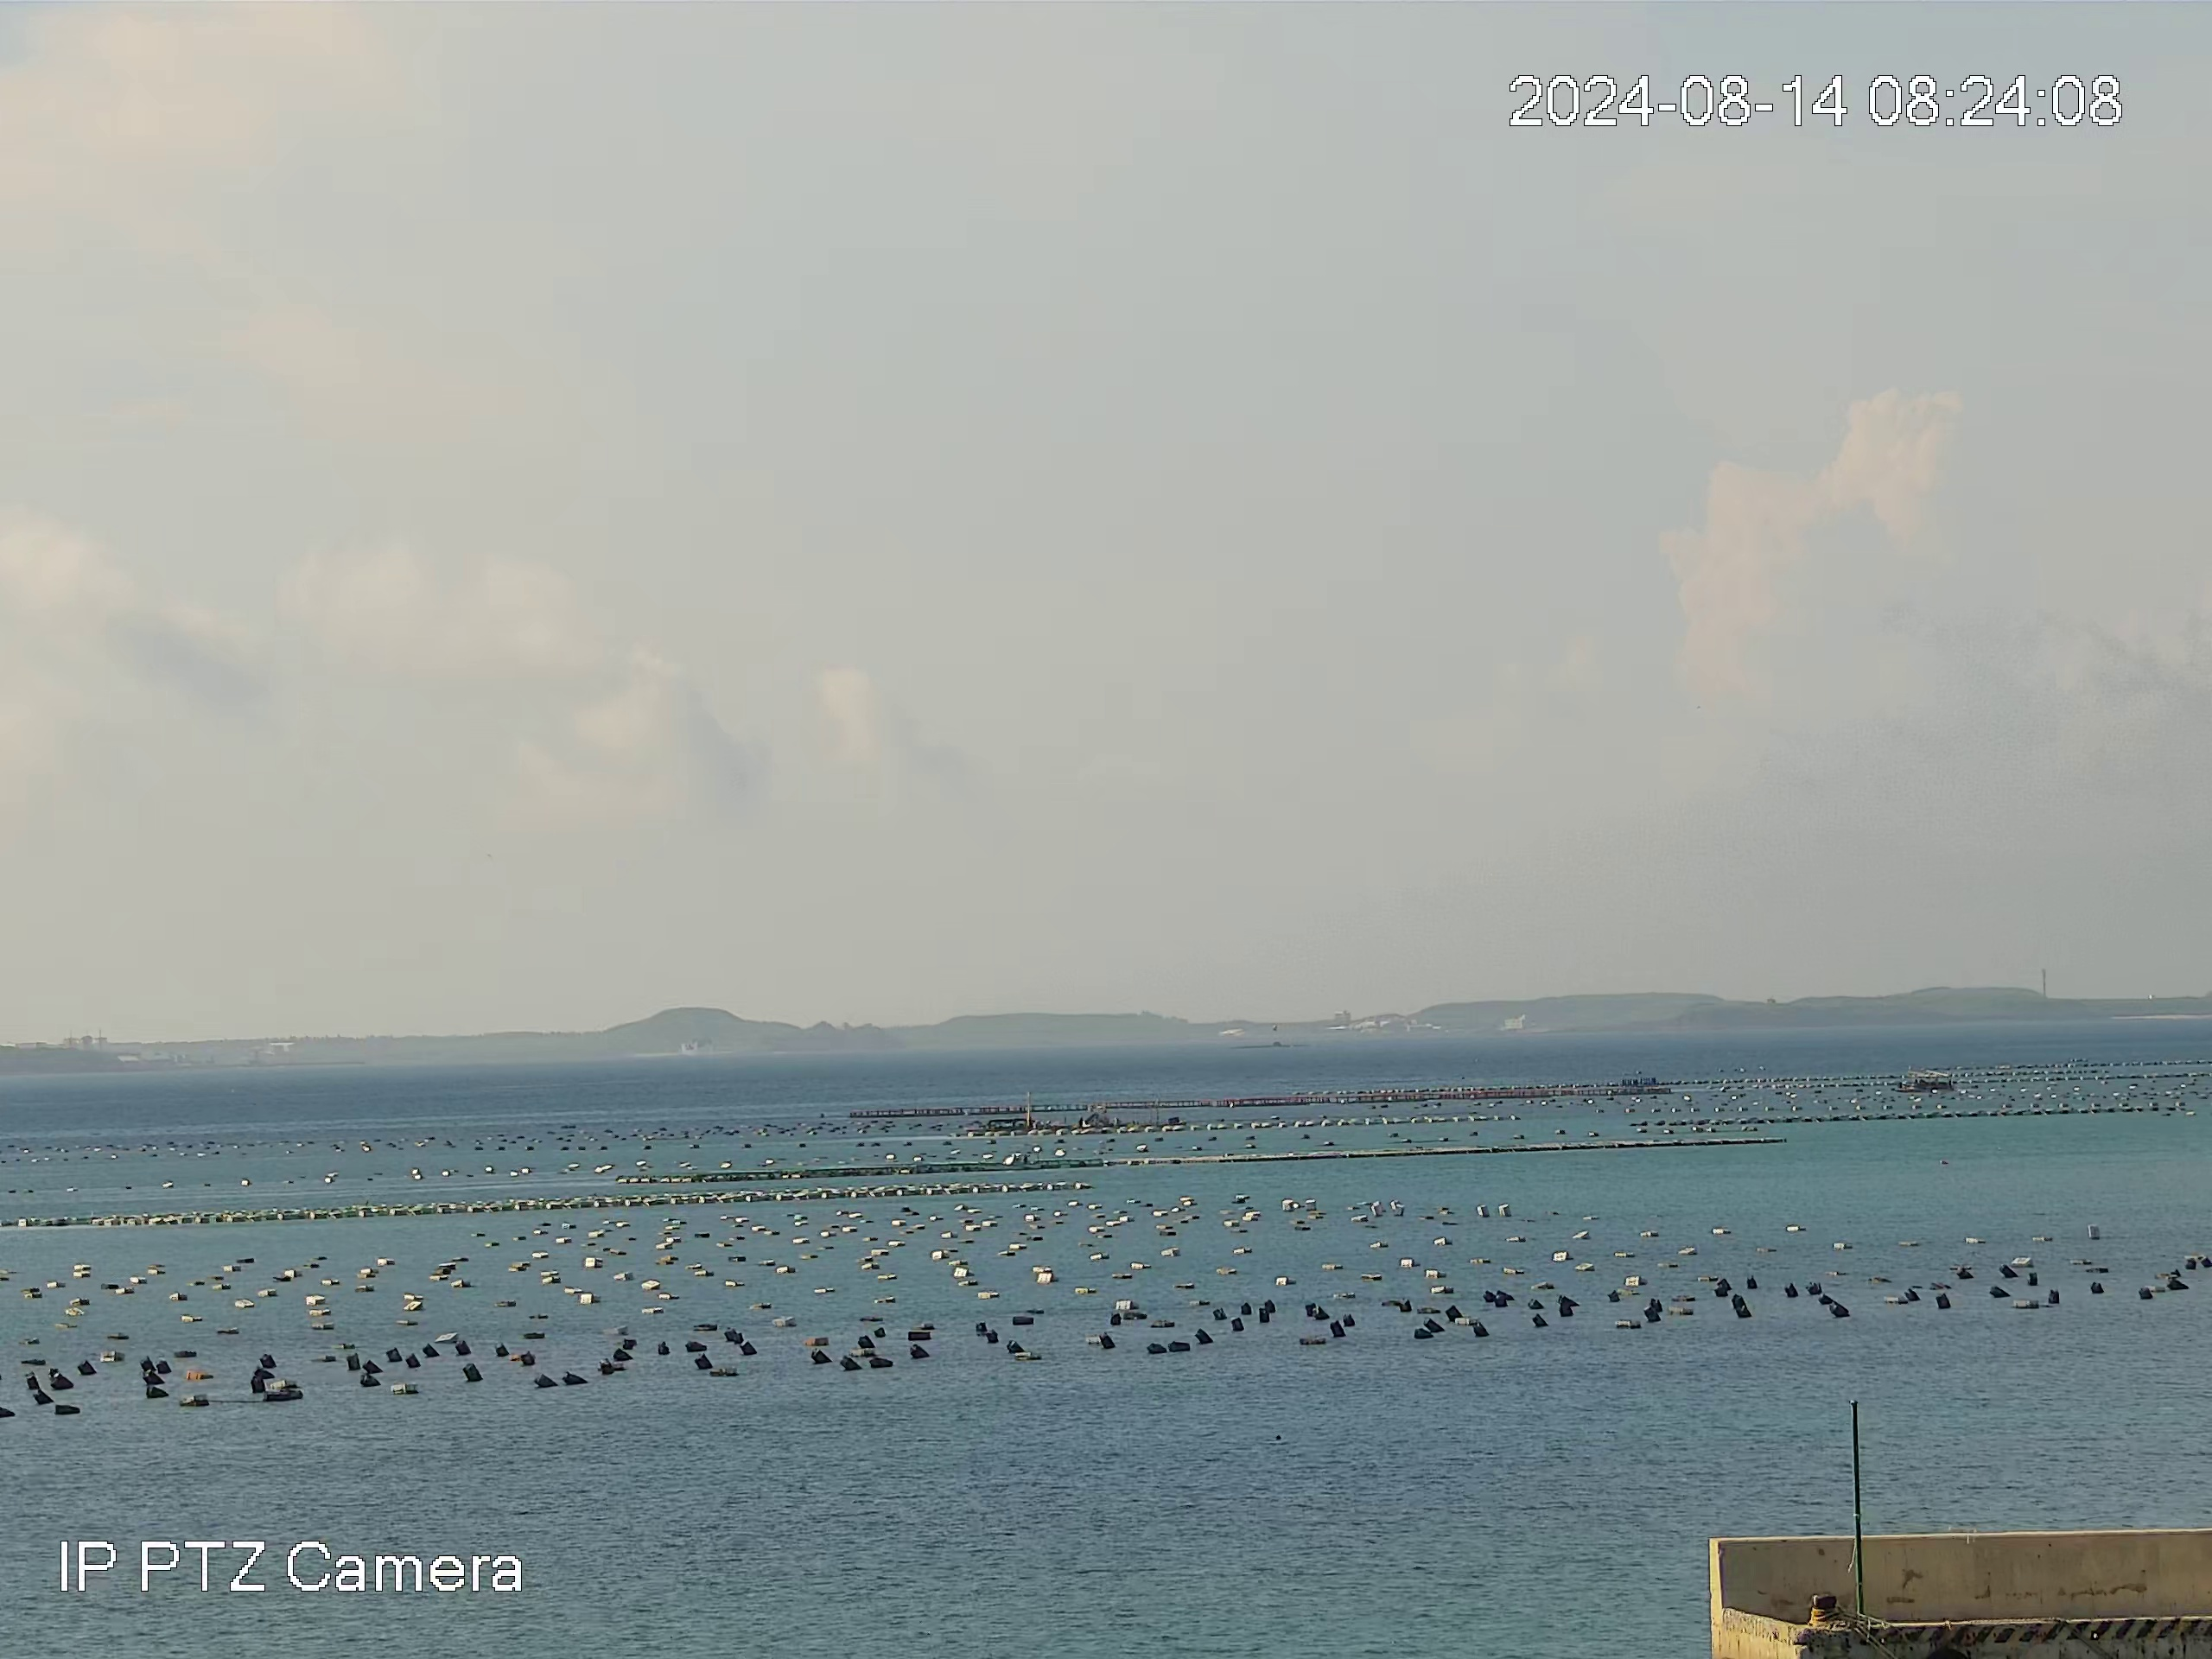boat: (1893, 1063, 1966, 1094)
